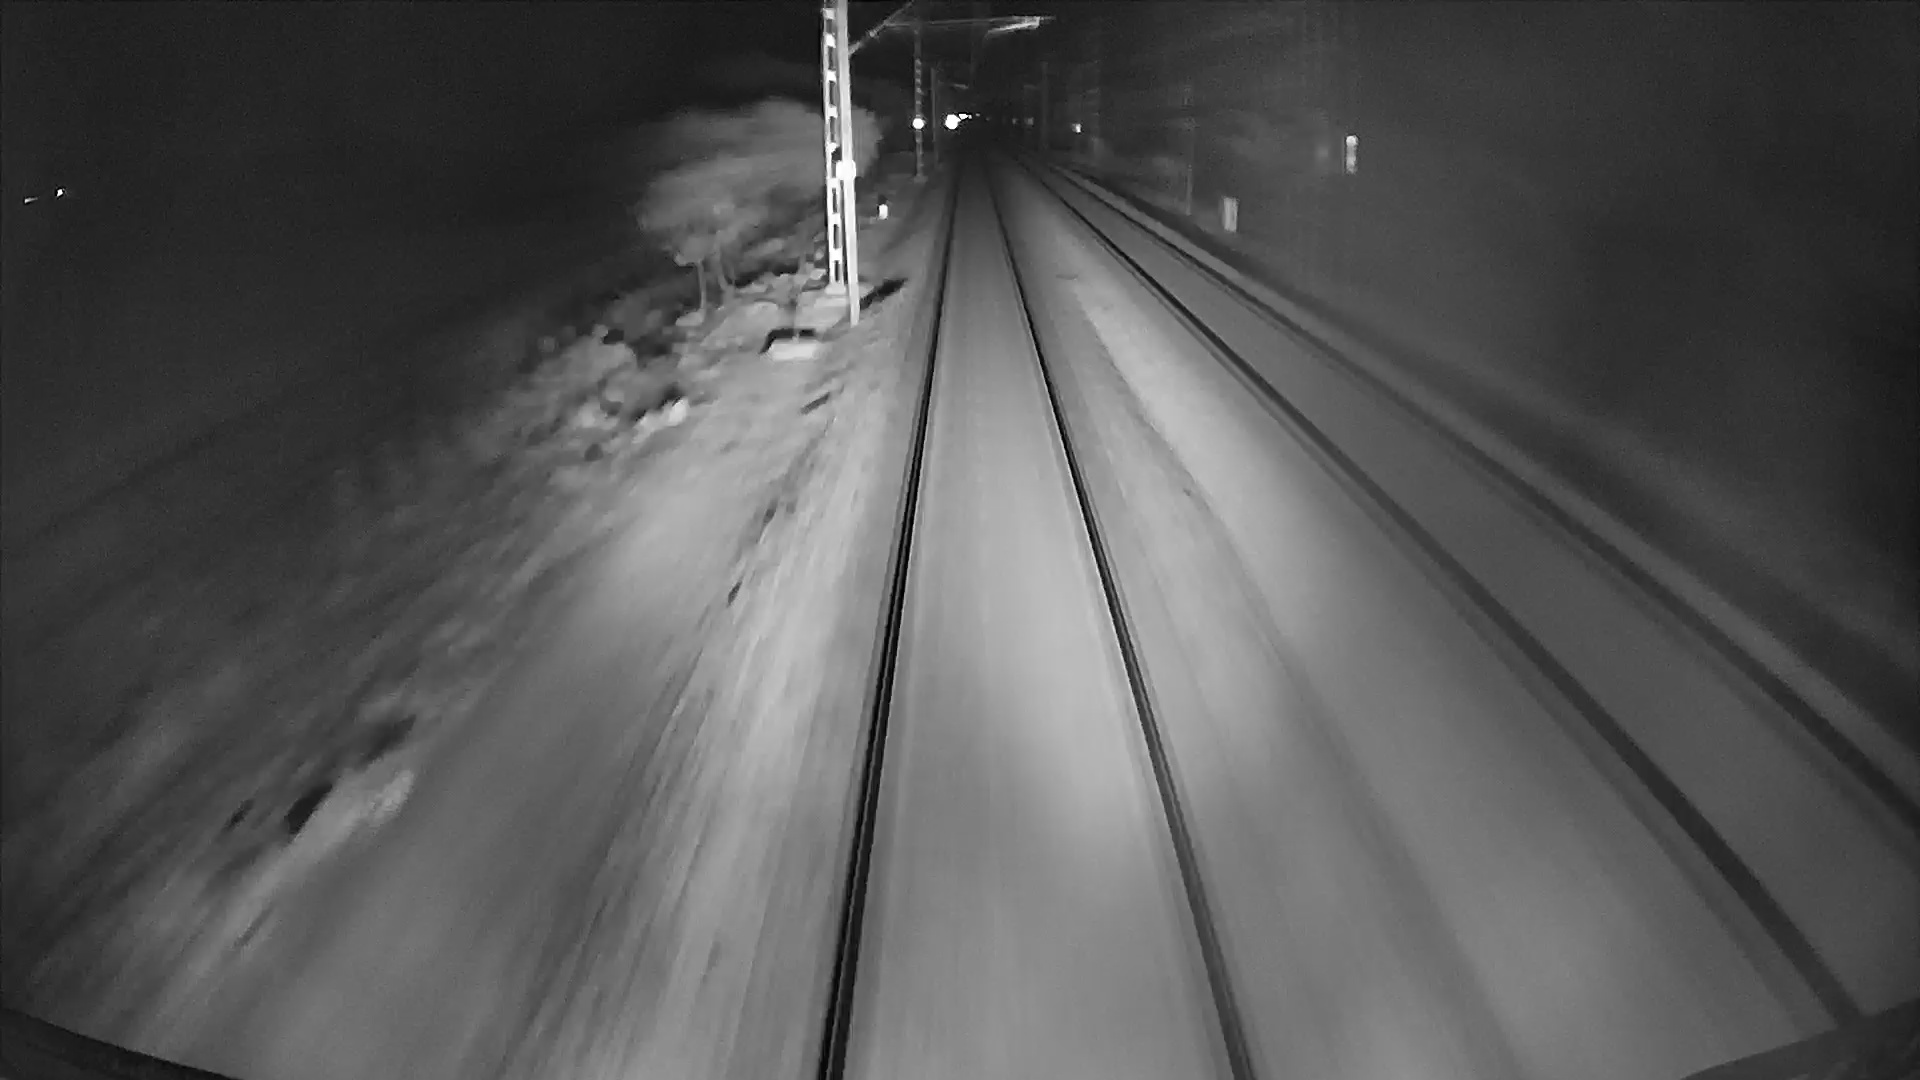track1: (832, 182, 1238, 1051)
track2: (1051, 183, 1898, 936)
